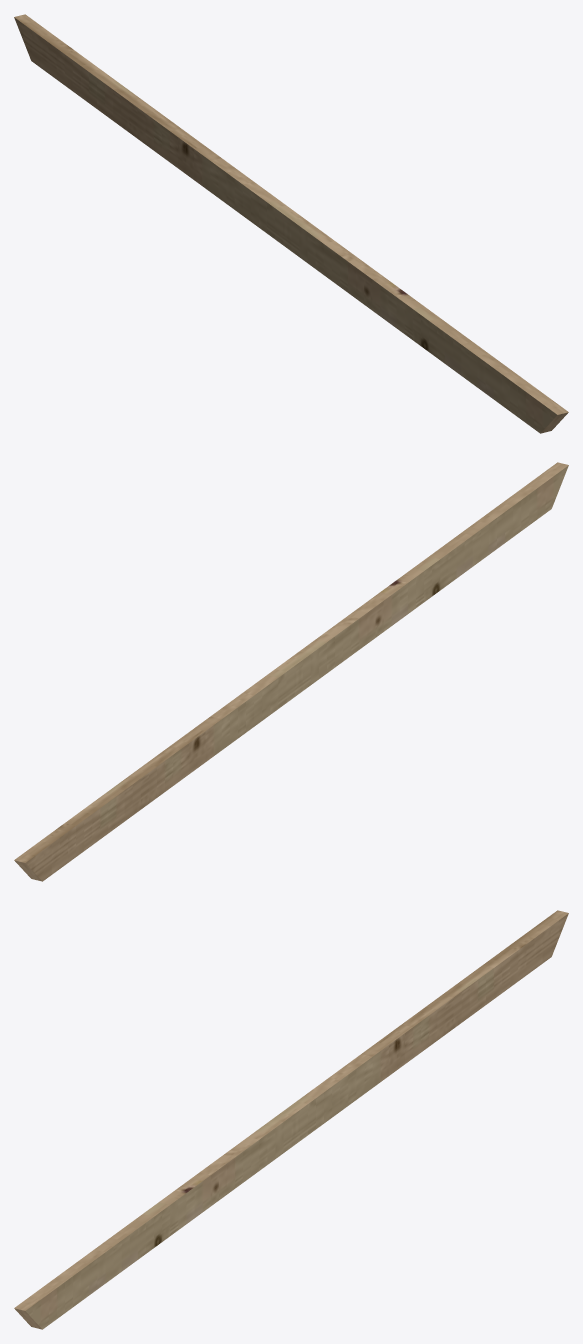
Rendered from Joglo_part_153.fbx.
The picture shows the model from 3 angles, top to bottom: view 1: azimuth 30°, elevation 25°; view 2: azimuth 150°, elevation 25°; view 3: azimuth 330°, elevation 25°; orthographic projection.
Visible parts, largest first — view 1: Mesh235_Wood___Pine_Grained_Horizontal_0.001; view 2: Mesh235_Wood___Pine_Grained_Horizontal_0.001; view 3: Mesh235_Wood___Pine_Grained_Horizontal_0.001.
Boxes of the visible parts, box(x1,y1,x2,y2) form: Mesh235_Wood___Pine_Grained_Horizontal_0.001: box(14, 14, 568, 433); Mesh235_Wood___Pine_Grained_Horizontal_0.001: box(14, 462, 568, 881); Mesh235_Wood___Pine_Grained_Horizontal_0.001: box(14, 910, 568, 1329).
Bounding box in the file's own units: 0.7479 × 1.97 × 61.97.
